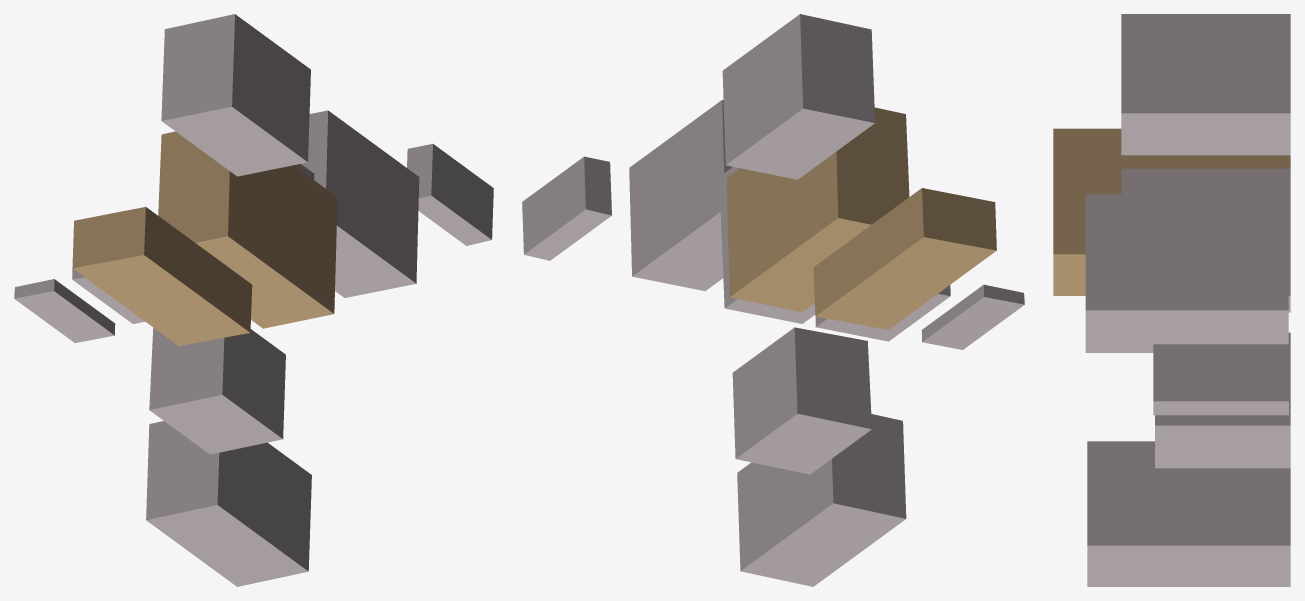
The picture shows the model from 3 angles, left to right: view 1: azimuth 30°, elevation 25°; view 2: azimuth 150°, elevation 25°; view 3: azimuth 270°, elevation 25°; orthographic projection. The views are drawn at different scales.
Visible parts, largest first — view 1: 0_2_1_3_0_0_3_1_2; view 2: 0_2_1_3_0_0_3_1_2; view 3: 0_2_1_3_0_0_3_1_2.
Boxes of the visible parts, bbox=[...] form: 0_2_1_3_0_0_3_1_2: bbox=[14, 14, 493, 586]; 0_2_1_3_0_0_3_1_2: bbox=[522, 14, 1024, 586]; 0_2_1_3_0_0_3_1_2: bbox=[1053, 14, 1290, 586].
Bounding box in the file's own units: 48.5 × 53.21 × 21.
